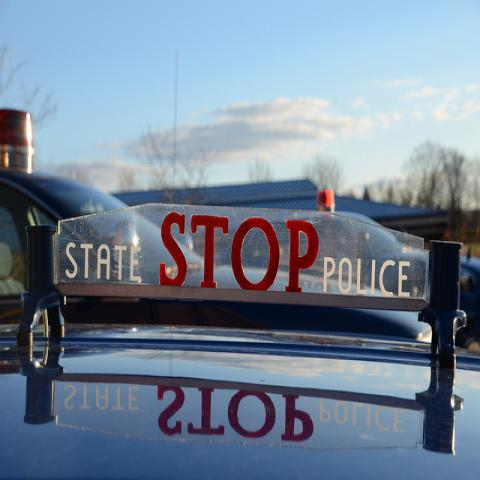car: (0, 200, 479, 479), (2, 173, 133, 329), (458, 255, 479, 343)
